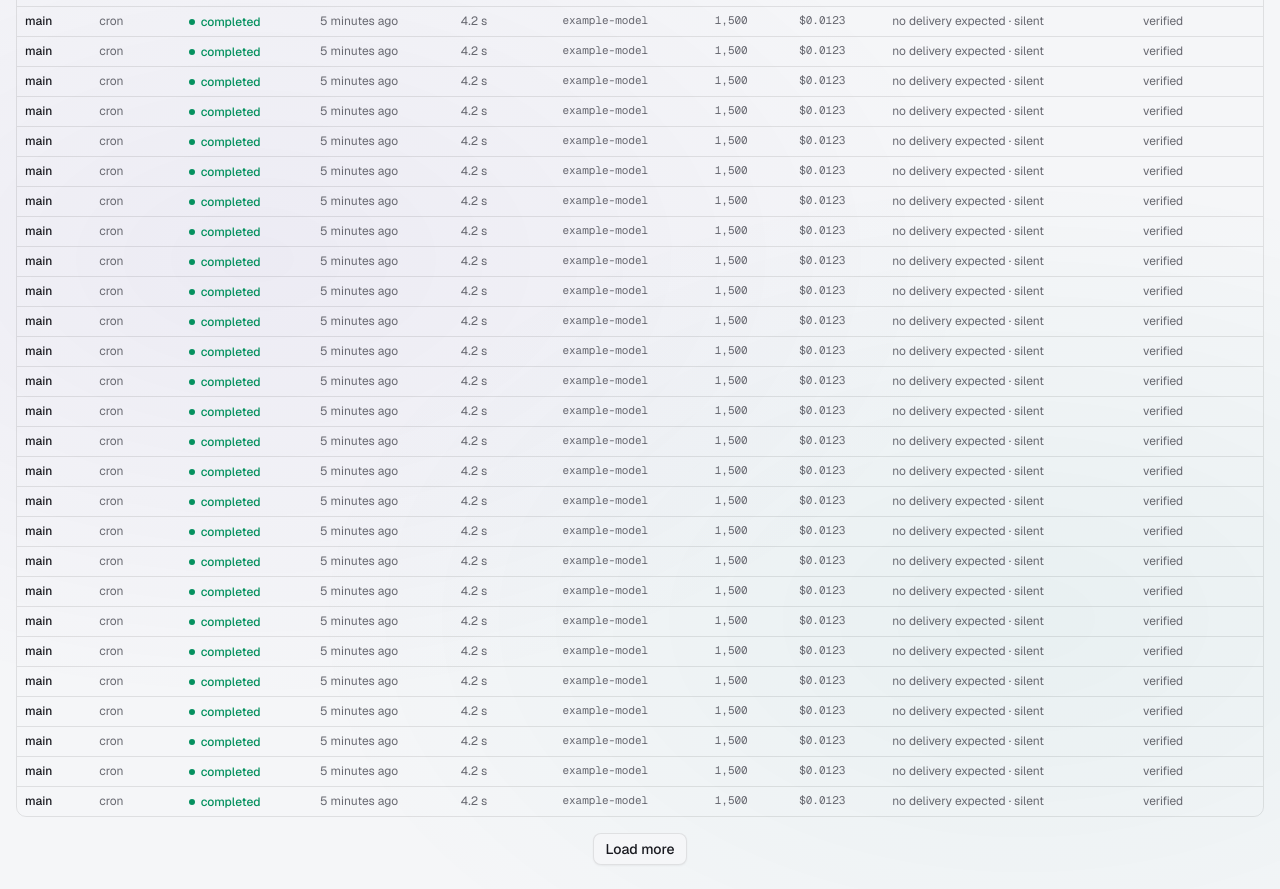
it: RunsView page › keeps rows unique when the next page repeats one already shown
(page scrolled)
Click the button with test id "runs-more".
click(640, 849)  # box [592,833,688,865]
(page scrolled)
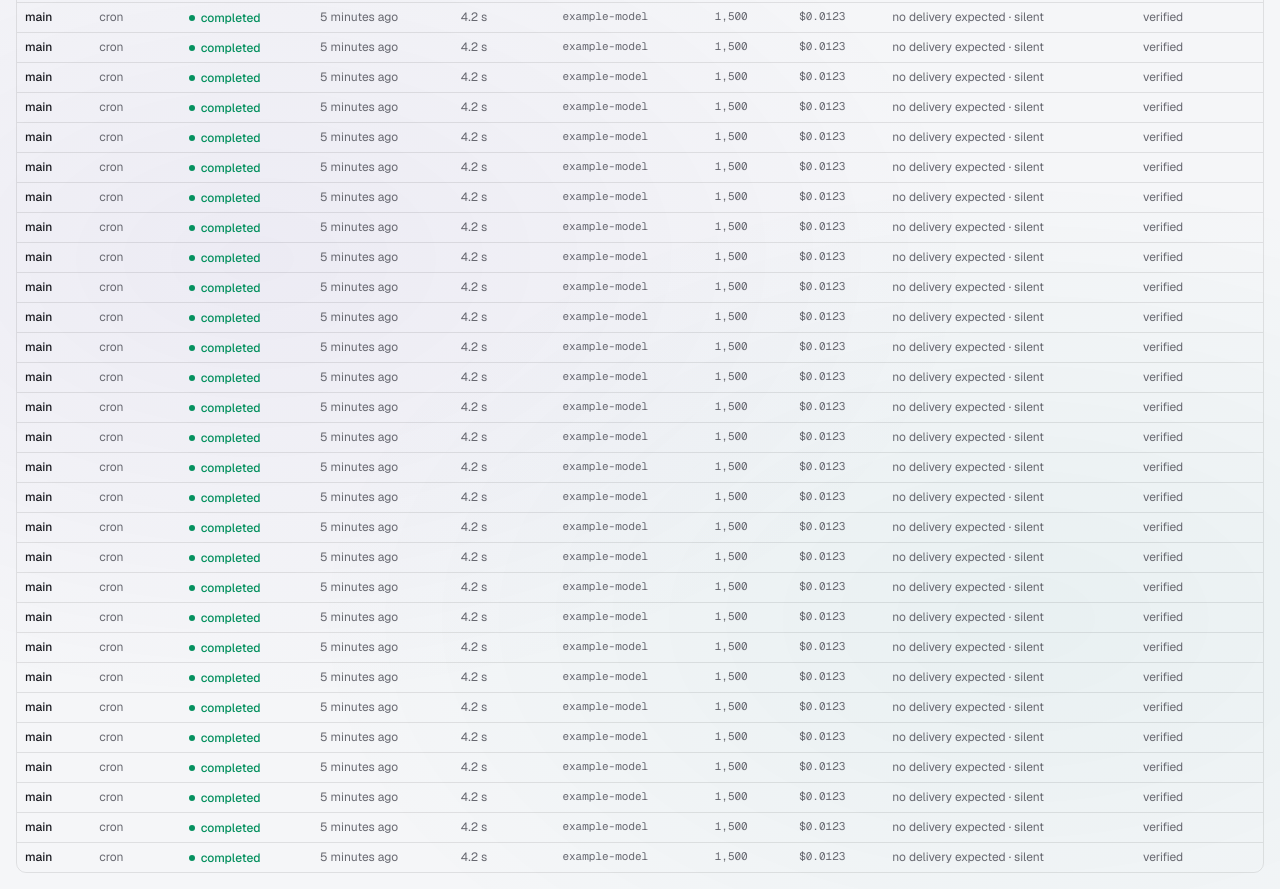
Expected: the number of rows with test id "run-row-p49" is 1, [17,813,1263,843]
Expected: the row with test id "run-row-next" is shown, [17,843,1263,872]
